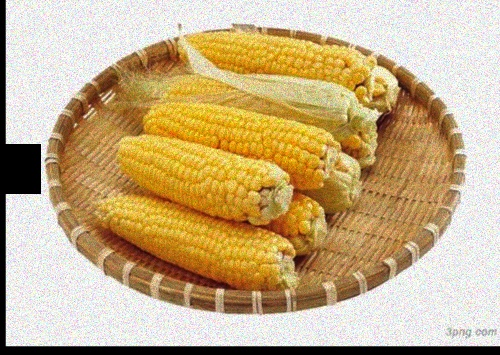corn: (94, 192, 297, 291), (141, 102, 342, 190), (113, 132, 295, 228), (181, 31, 374, 101)
